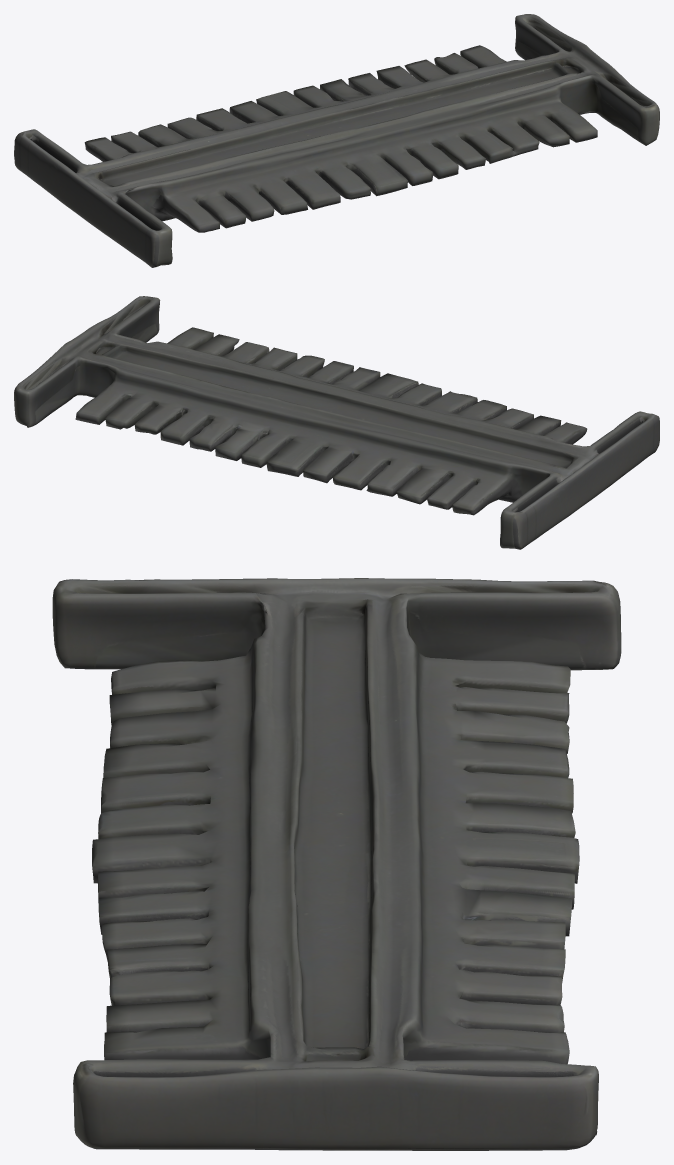
Rendered from Cable_Comb_Tool_0812040305_texture.fbx.
The picture shows the model from 3 angles, top to bottom: view 1: azimuth 30°, elevation 25°; view 2: azimuth 150°, elevation 25°; view 3: azimuth 270°, elevation 25°; orthographic projection. The views are drawn at different scales.
Visible parts, largest first — view 1: input; view 2: input; view 3: input.
Boxes of the visible parts, <box> form: input: <box>14,14,659,267</box>; input: <box>14,296,659,549</box>; input: <box>52,578,621,1150</box>.
Bounding box in the file's own units: 200 × 15.7 × 95.18.
1 material, 1 textured.
